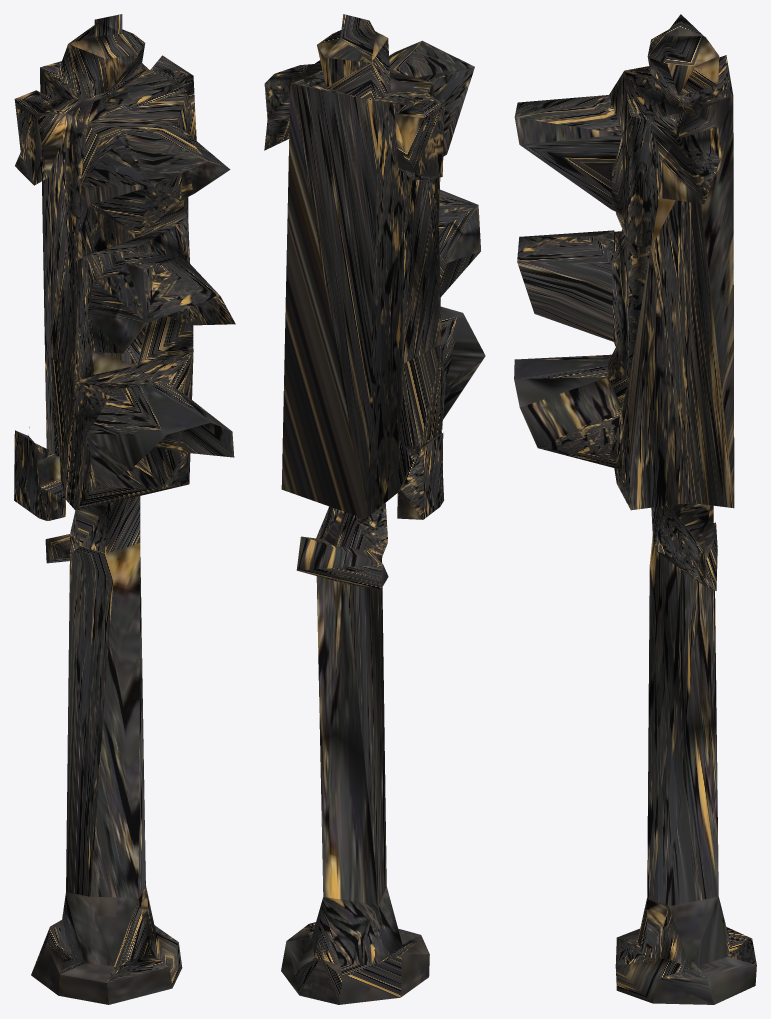
The model's file is traffic_light_2500.glb.
3 renders of one model, left to right at view 1: azimuth 30°, elevation 25°; view 2: azimuth 150°, elevation 25°; view 3: azimuth 270°, elevation 25°, orthographic.
Parts seen in each view (by area): view 1: output_unwrapped; view 2: output_unwrapped; view 3: output_unwrapped.
Boxes of the visible parts, bbox=[...] form: output_unwrapped: bbox=[14, 14, 235, 1004]; output_unwrapped: bbox=[264, 14, 485, 1004]; output_unwrapped: bbox=[514, 14, 756, 1004].
Bounding box in the file's own units: 1.01 × 5.5 × 1.27.
1 material, 1 textured.
